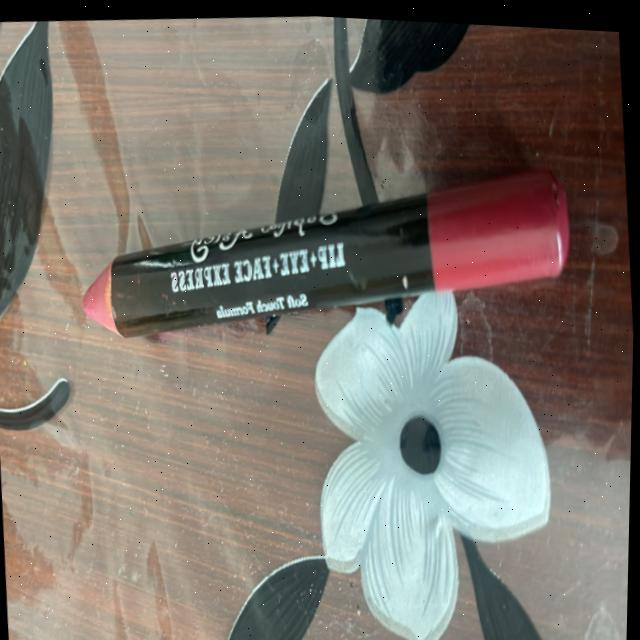lip liner: (32, 96, 605, 409)
